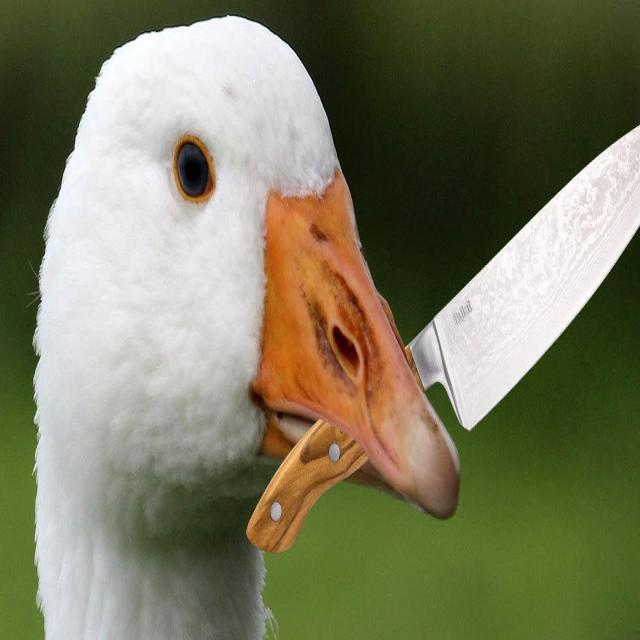Goose: (40, 12, 458, 640)
